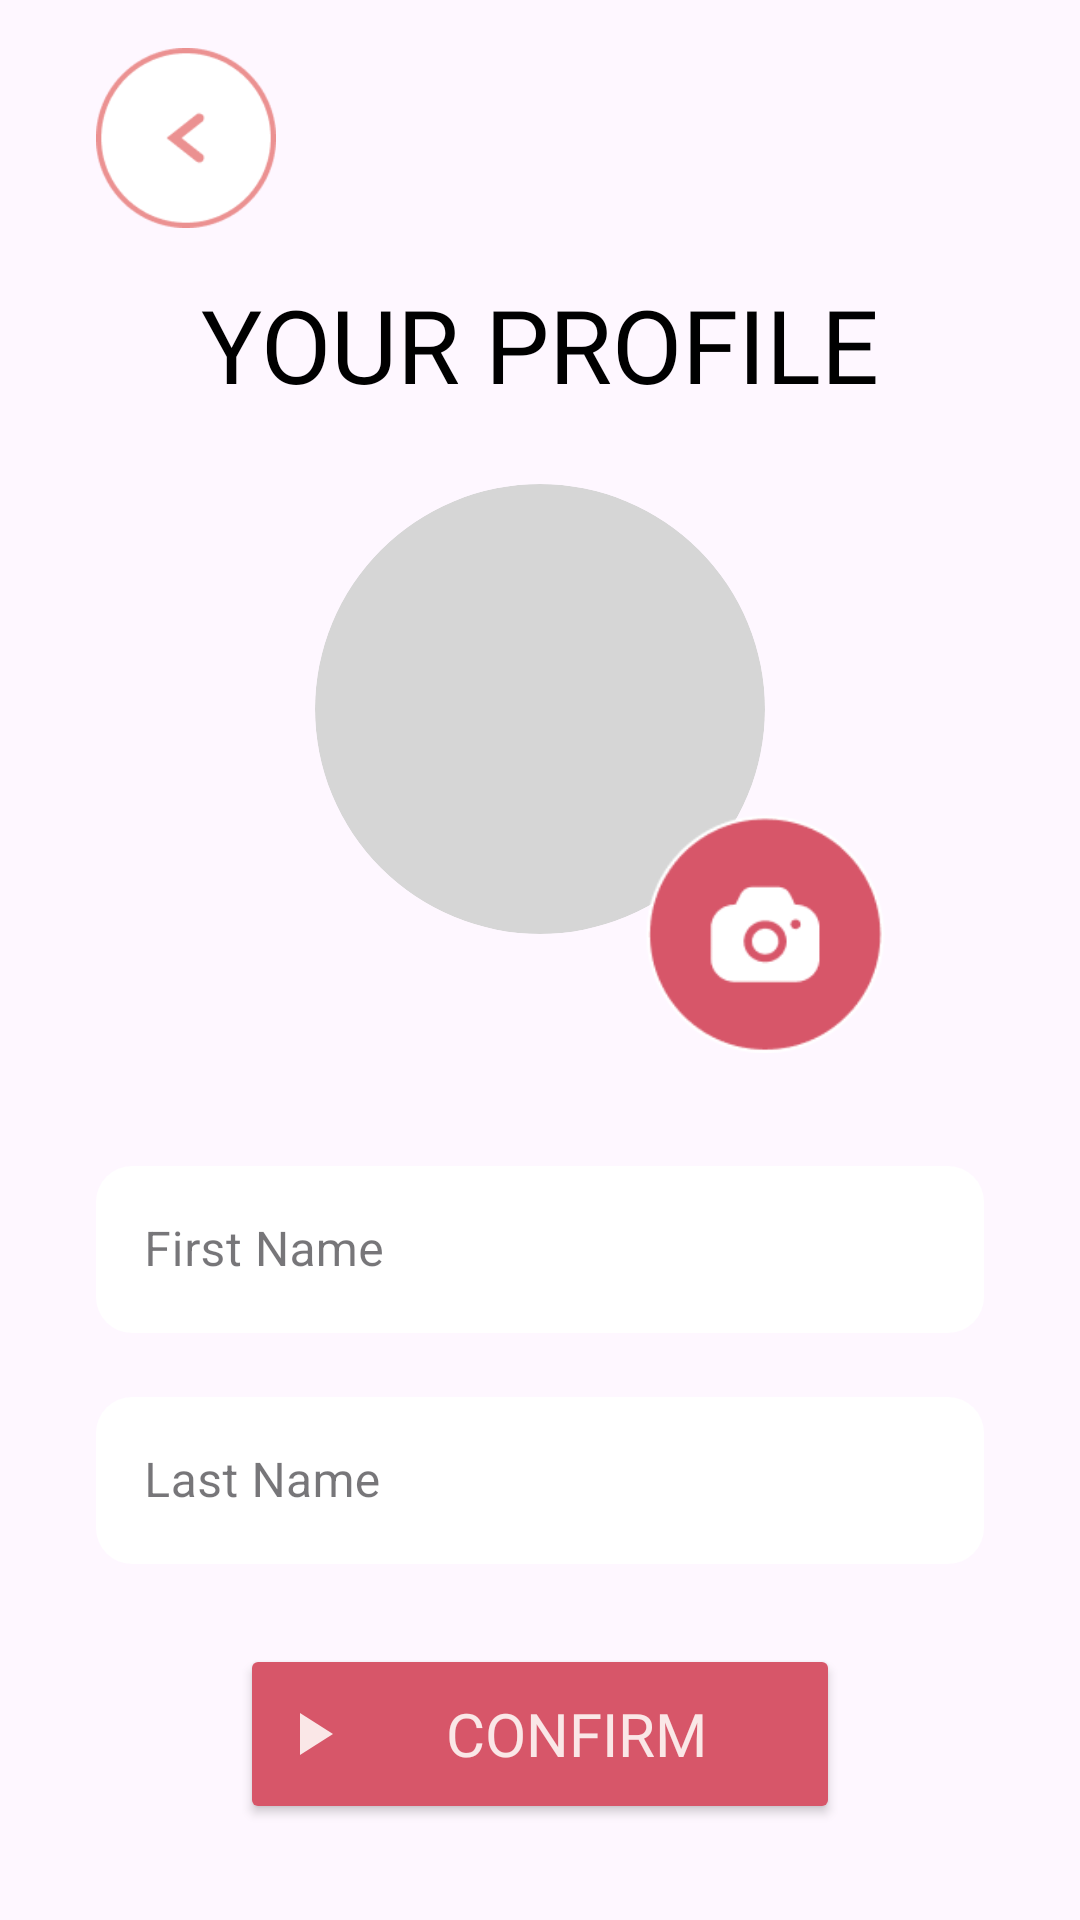

Icons on this 1080x1920 Android screen, each with the point to tap as point (x, y):
back: point (186, 138)
camera: point (765, 934)
